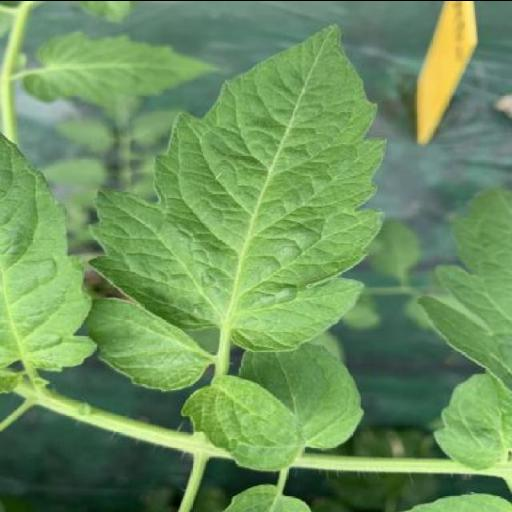Healthy: (90, 24, 386, 350), (84, 297, 208, 390), (182, 374, 302, 470)
